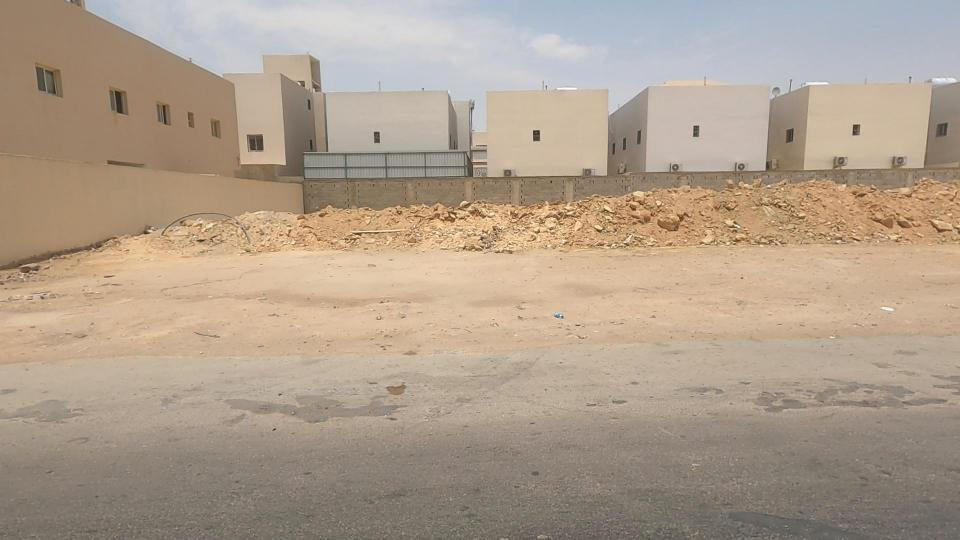GARBAGE: (509, 288, 591, 337), (860, 289, 918, 333)
